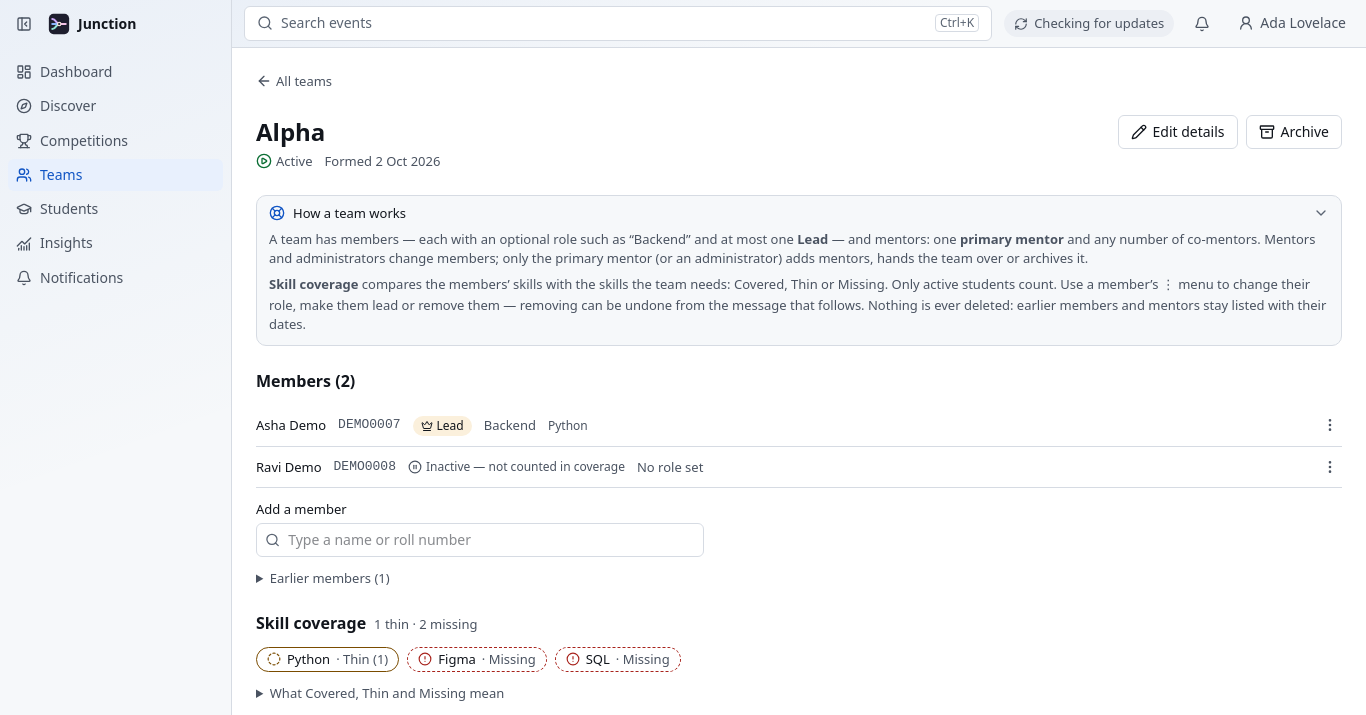
forced states › archiving turns the page read-only at once
The image size is (1366, 715).
Expected: the navigation bar named "Main" is shown, x1=0 y1=0 x2=231 y2=302
Expected: the heading "Alpha" is shown, x1=256 y1=115 x2=325 y2=148
Click the button "Archive": (1294, 132) x1=1246 y1=115 x2=1342 y2=149
(page scrolled)
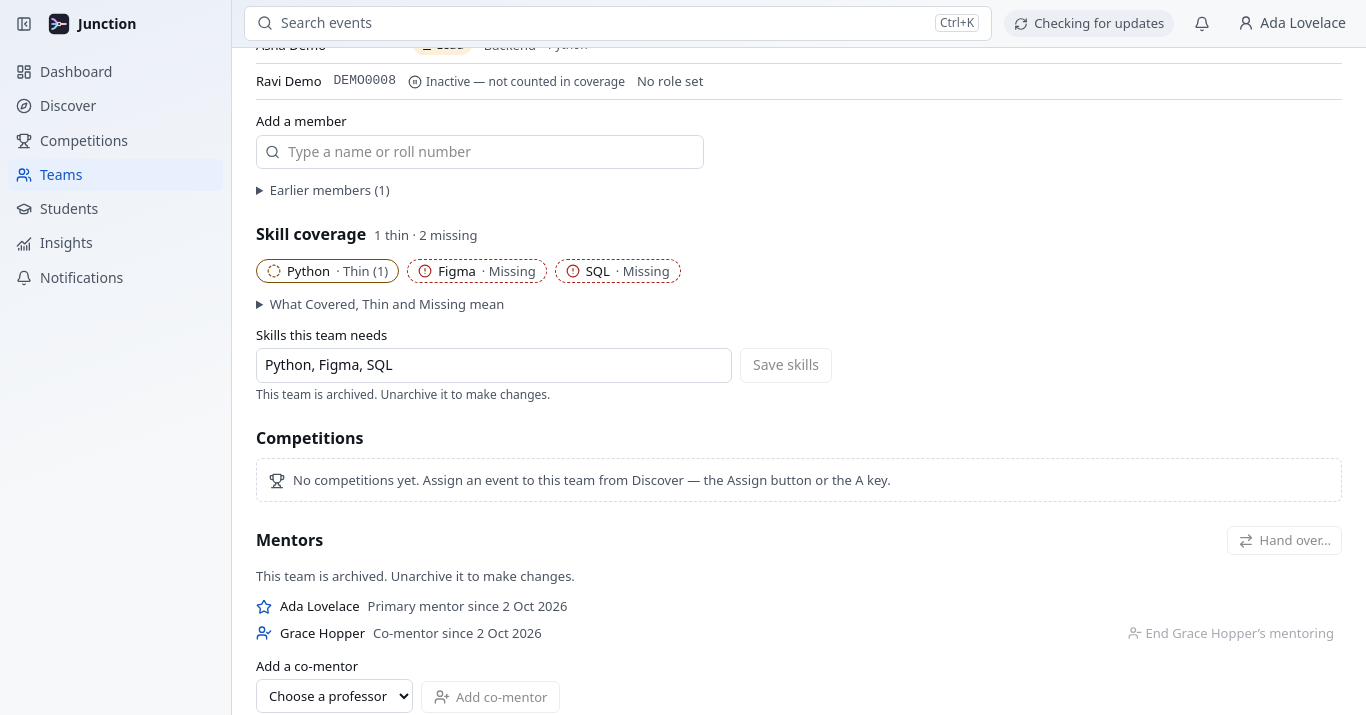
Expected: the dropdown labelled "Add a member" is disabled, x1=288 y1=136 x2=695 y2=168
Expected: the button "Hand over…" is disabled, x1=1226 y1=526 x2=1342 y2=555
